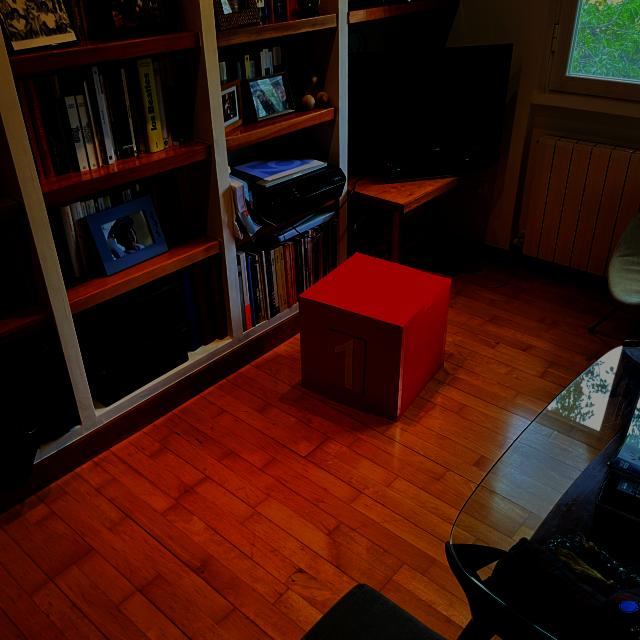box: (293, 248, 455, 424)
